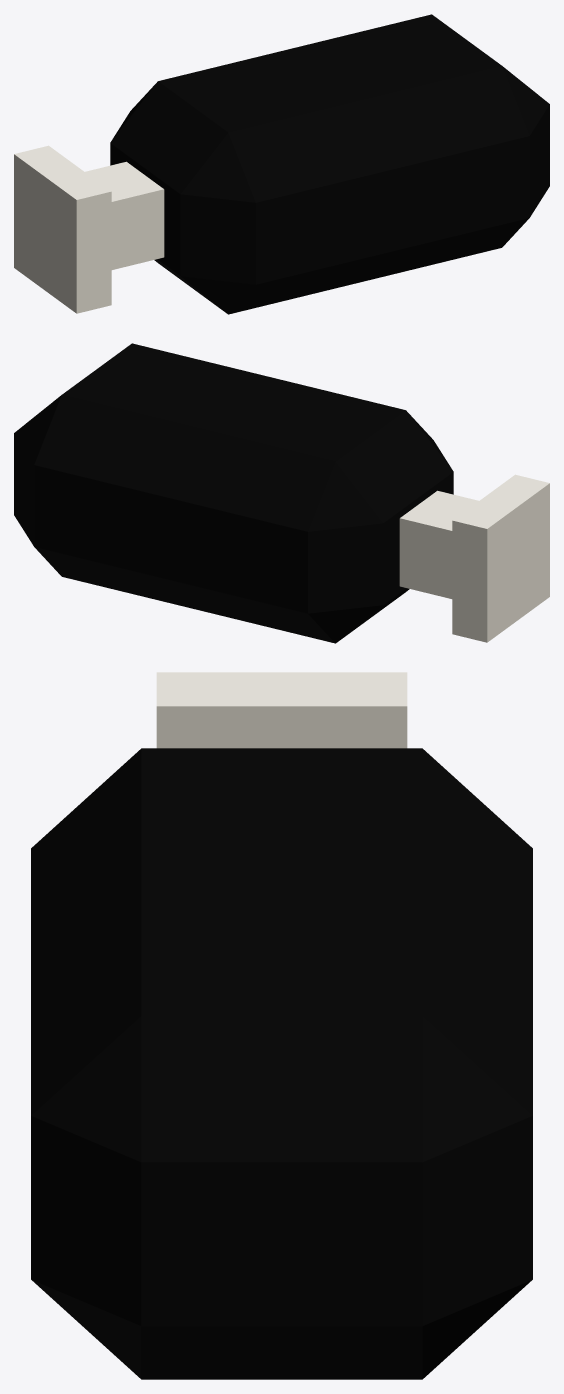
File: Item_bread.fbx
3 views of the same model, one above another, from view 1: azimuth 30°, elevation 25°; view 2: azimuth 150°, elevation 25°; view 3: azimuth 270°, elevation 25° (orthographic). The views are drawn at different scales.
Visible parts, largest first — view 1: Loaf, Twist; view 2: Loaf, Twist; view 3: Loaf, Twist.
Part boxes in pixels (left/top/right/bottom): Loaf: left=110, top=14, right=549, bottom=314; Twist: left=14, top=145, right=164, bottom=313; Loaf: left=14, top=343, right=453, bottom=643; Twist: left=399, top=474, right=549, bottom=642; Loaf: left=31, top=748, right=532, bottom=1379; Twist: left=156, top=672, right=407, bottom=748.
Bounding box in the file's own units: 0.2916 × 0.108 × 0.135.
